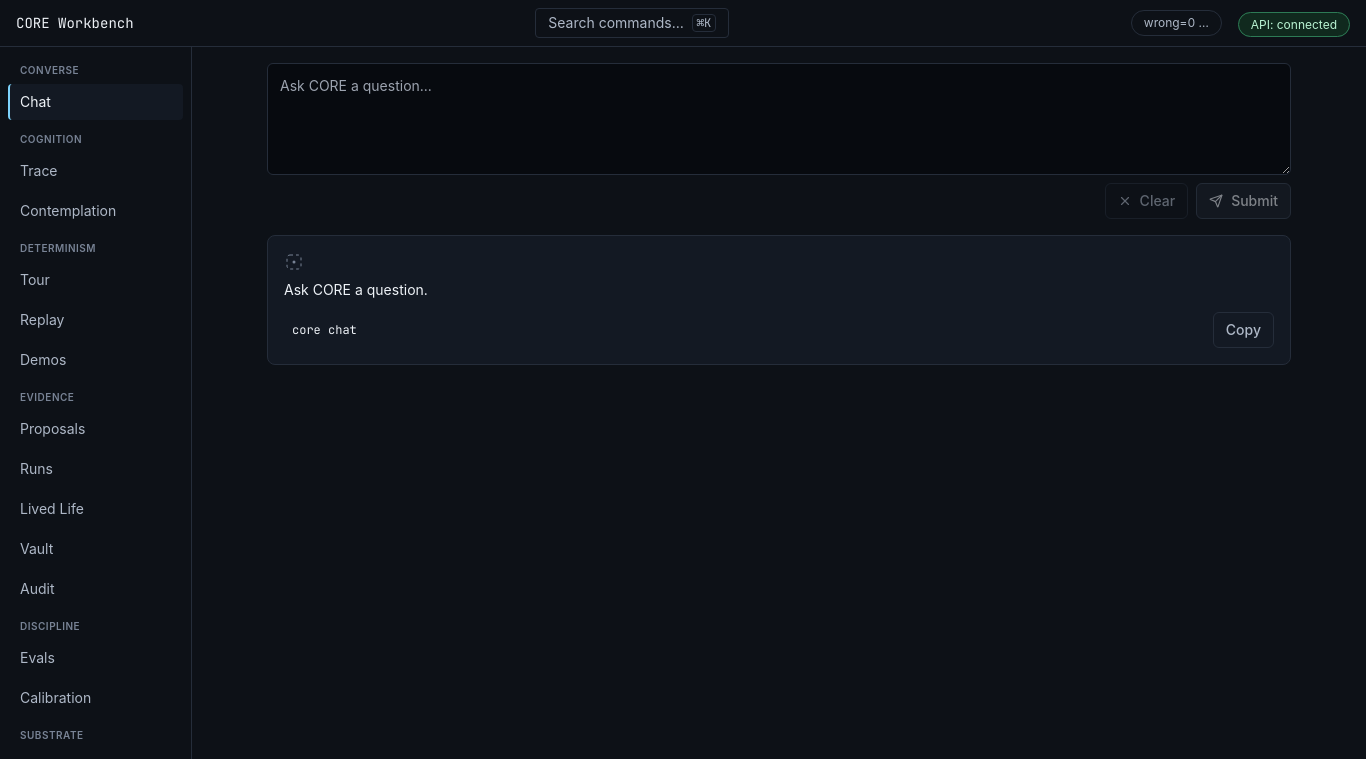
Scenario: Shell › clicking a nav item changes route (main shows new content)
expect the text "Ask CORE a question." is shown: met, box [284,281,428,298]
// Click Proposals nav link
Click the link "Proposals". click: [53, 428]
box: [20,420,85,437]
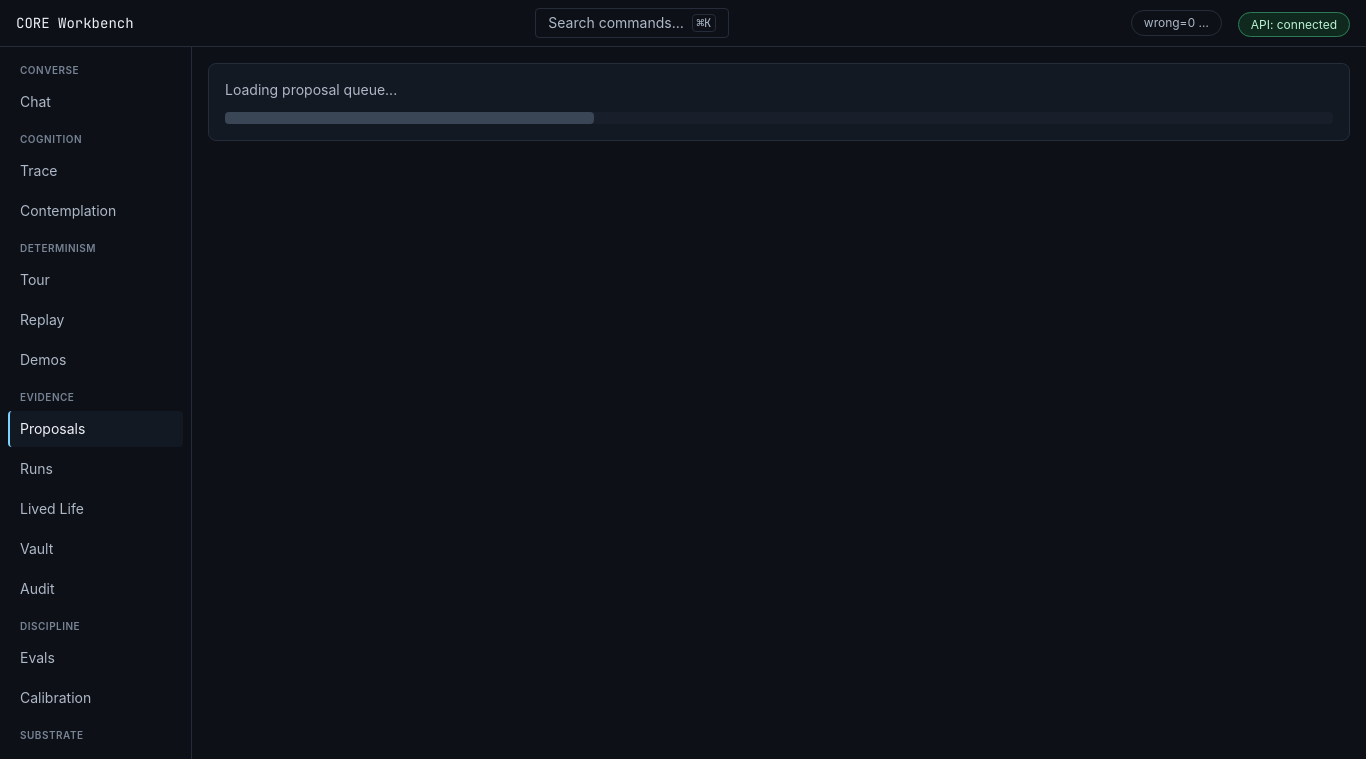
expect the text "Loading proposal queue..." is shown: met, box [225,81,397,98]
